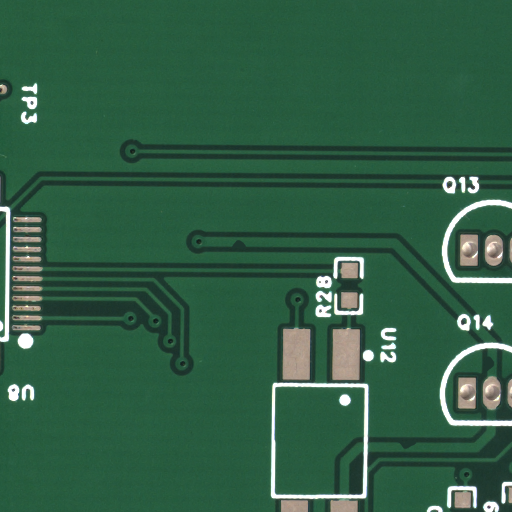Mouse_bite: (408, 445, 429, 455), (489, 362, 500, 380), (239, 243, 256, 252)
